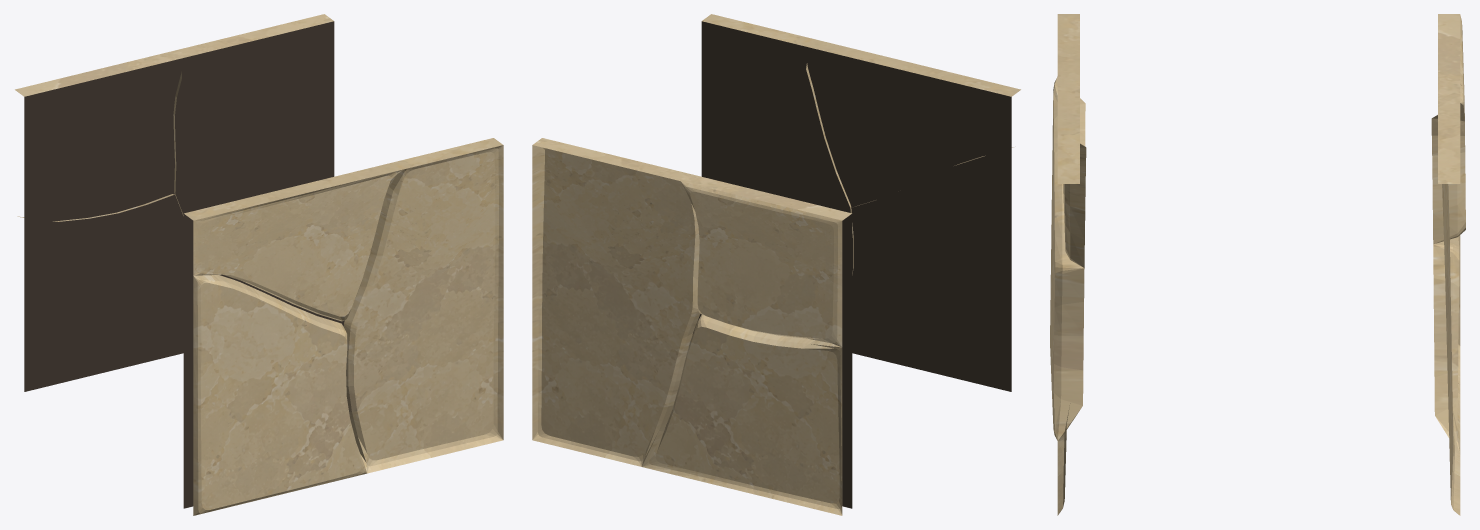
Rendered from ground_strip_06.glb.
The picture shows the model from 3 angles, left to right: view 1: azimuth 30°, elevation 25°; view 2: azimuth 150°, elevation 25°; view 3: azimuth 270°, elevation 25°; orthographic projection. The views are drawn at different scales.
Parts seen in each view (by area): view 1: GroundStrip06_Body; view 2: GroundStrip06_Body; view 3: GroundStrip06_Body.
Boxes of the visible parts, bbox=[...] form: GroundStrip06_Body: bbox=[15, 14, 503, 515]; GroundStrip06_Body: bbox=[532, 14, 1020, 515]; GroundStrip06_Body: bbox=[1050, 14, 1465, 515].
Bounding box in the file's own units: 1 × 0.91 × 1.03.
Materials: 8 (7 with a texture image).
